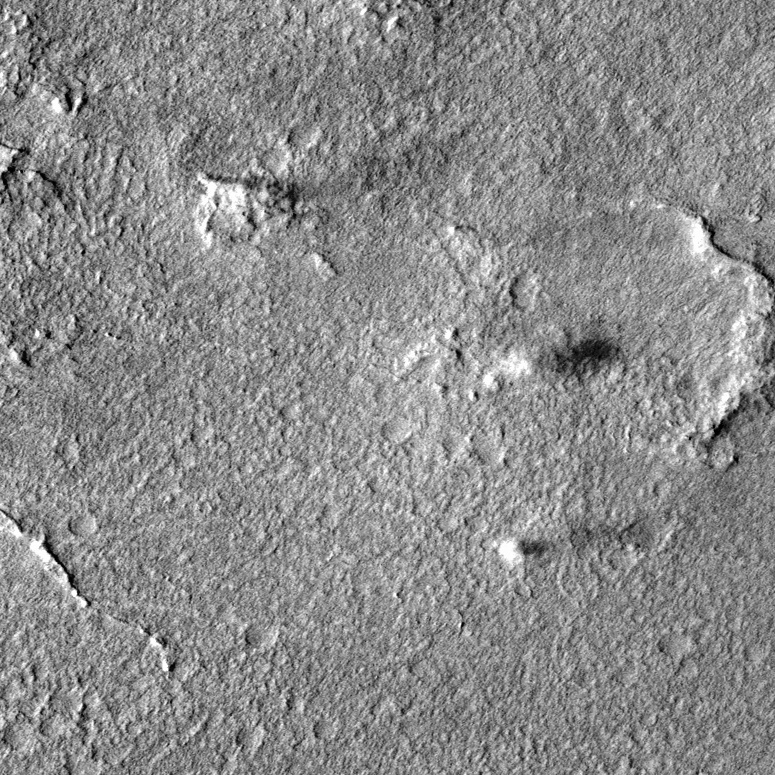dust_devil: (481, 334, 621, 389), (193, 170, 321, 207), (497, 536, 554, 570)
